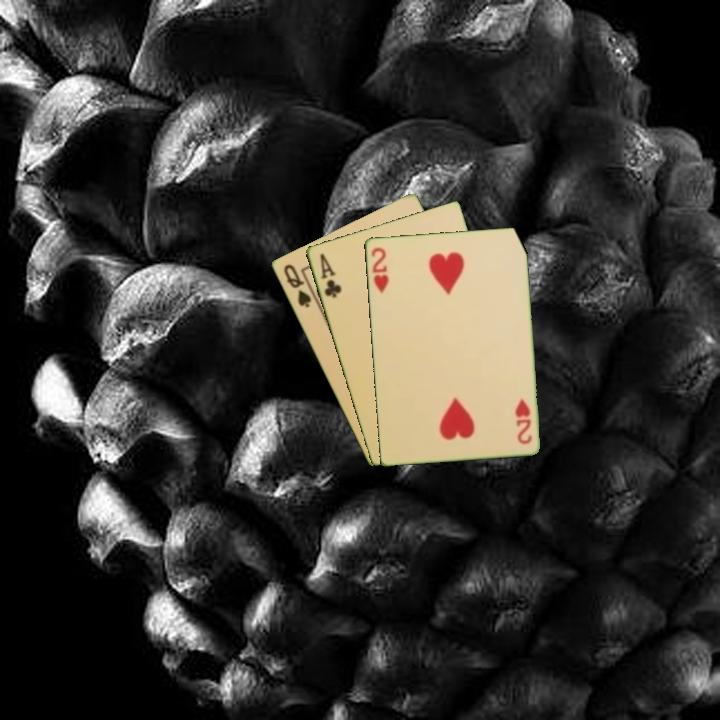2h: (511, 395, 534, 447), (368, 244, 391, 295)
Ac: (316, 250, 344, 301)
Qs: (280, 260, 314, 310)
